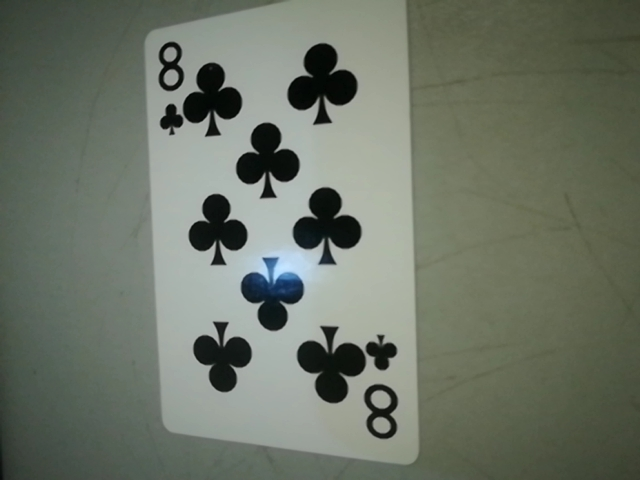mh 8: (353, 330, 415, 448)
